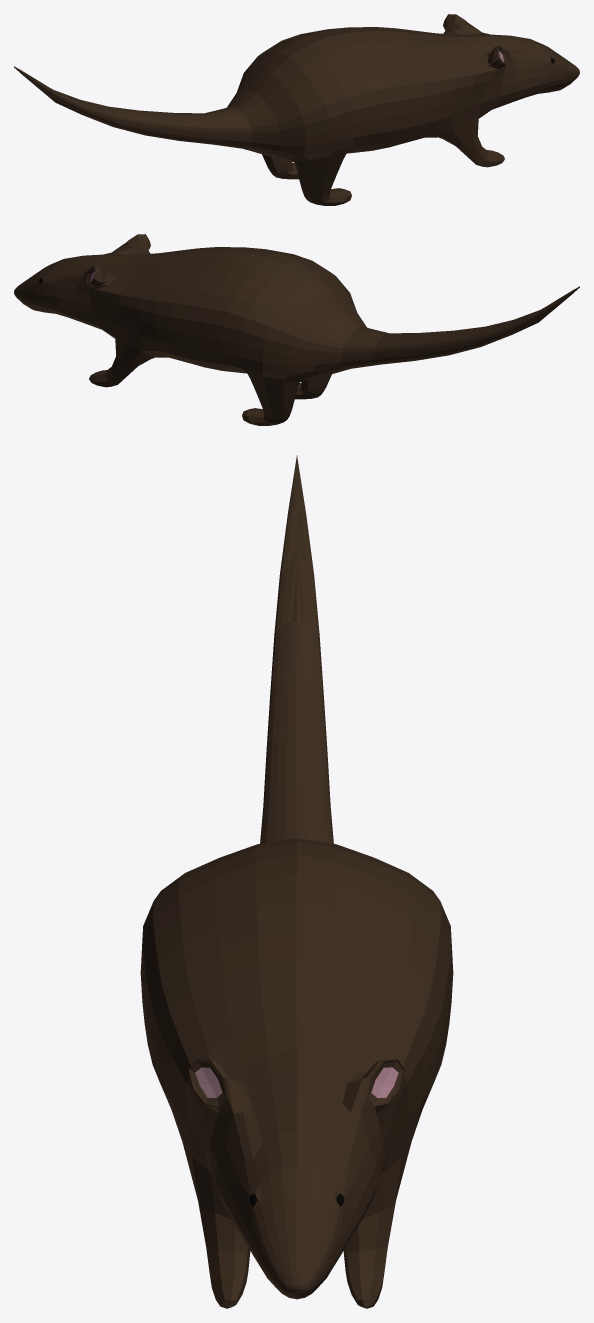
File: mouse 1.fbx
3 views of the same model, one above another, from view 1: azimuth 30°, elevation 25°; view 2: azimuth 150°, elevation 25°; view 3: azimuth 270°, elevation 25° (orthographic). The views are drawn at different scales.
Visible parts, largest first — view 1: Cube.002; view 2: Cube.002; view 3: Cube.002.
Boxes of the visible parts, <box> form: Cube.002: <box>14,14,579,205</box>; Cube.002: <box>14,234,579,425</box>; Cube.002: <box>140,455,453,1308</box>.
Size of the model in its own units: 687 by 231 by 164.
